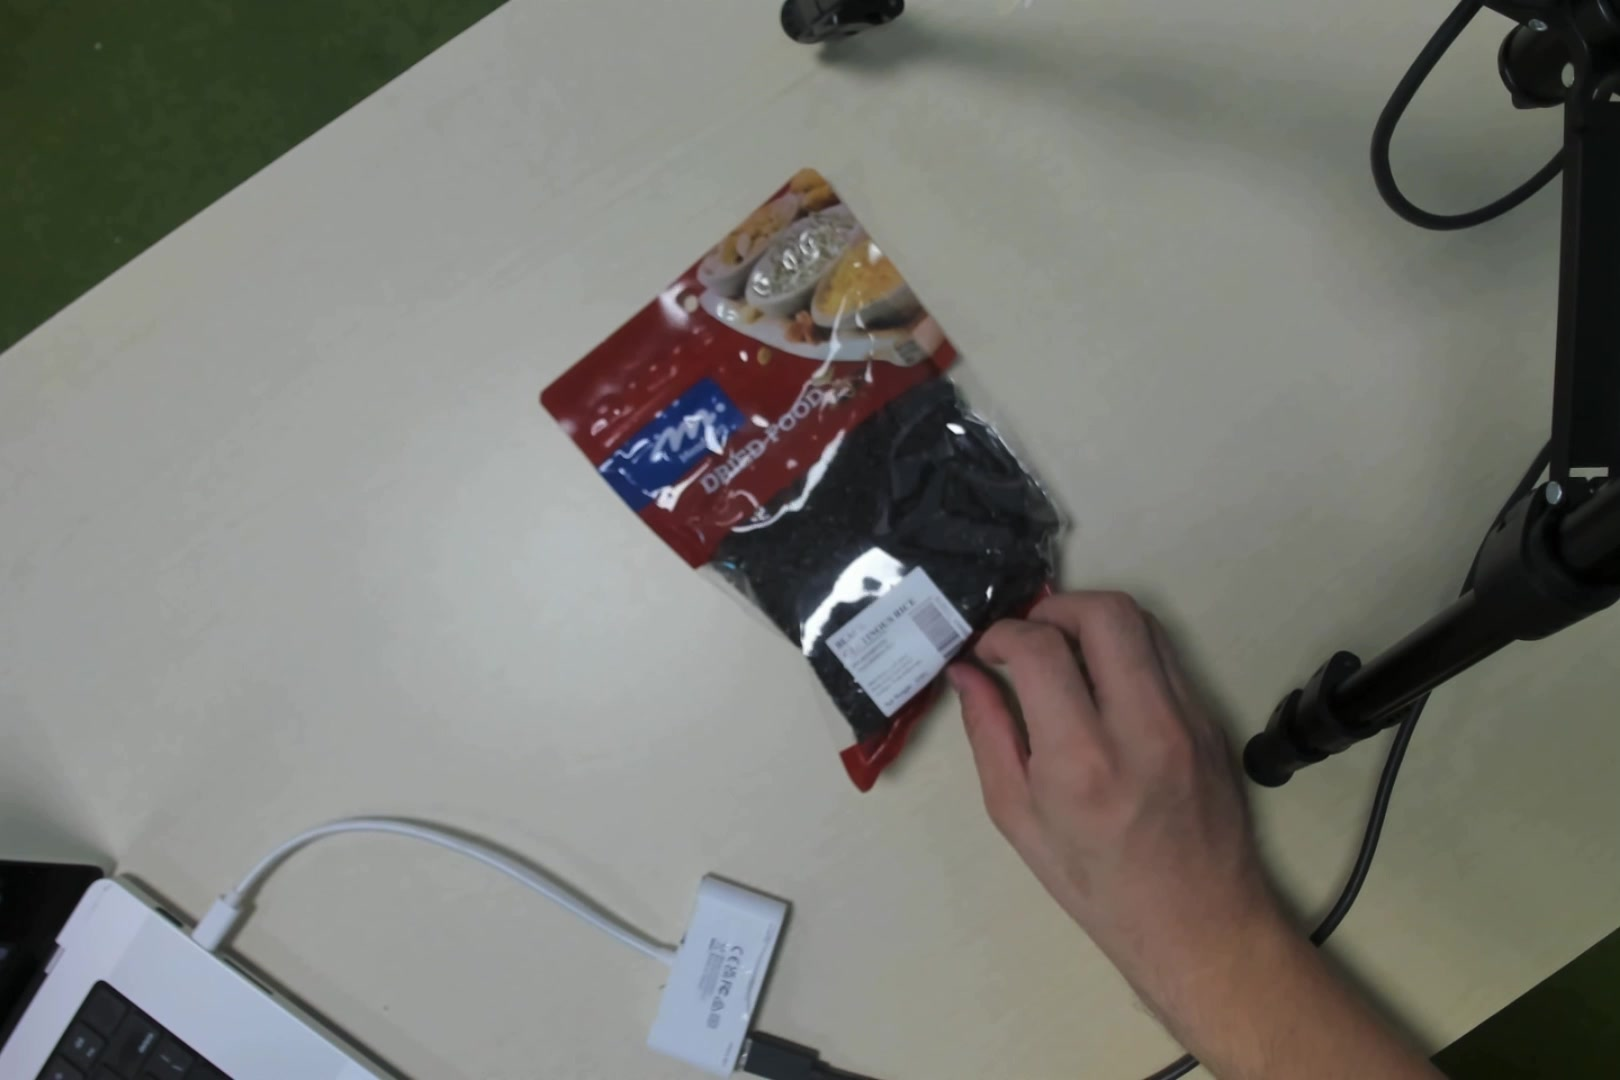OtherDriedFood_100-199g_NonHalal_NonHealthy: (634, 215, 1022, 717)
